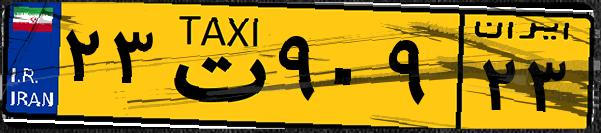0: (330, 28, 385, 110)
2: (57, 26, 110, 100), (475, 38, 525, 113)
3: (525, 38, 570, 115), (110, 28, 158, 98)
9: (270, 28, 330, 110), (385, 28, 445, 110)
ت: (158, 12, 270, 120)
